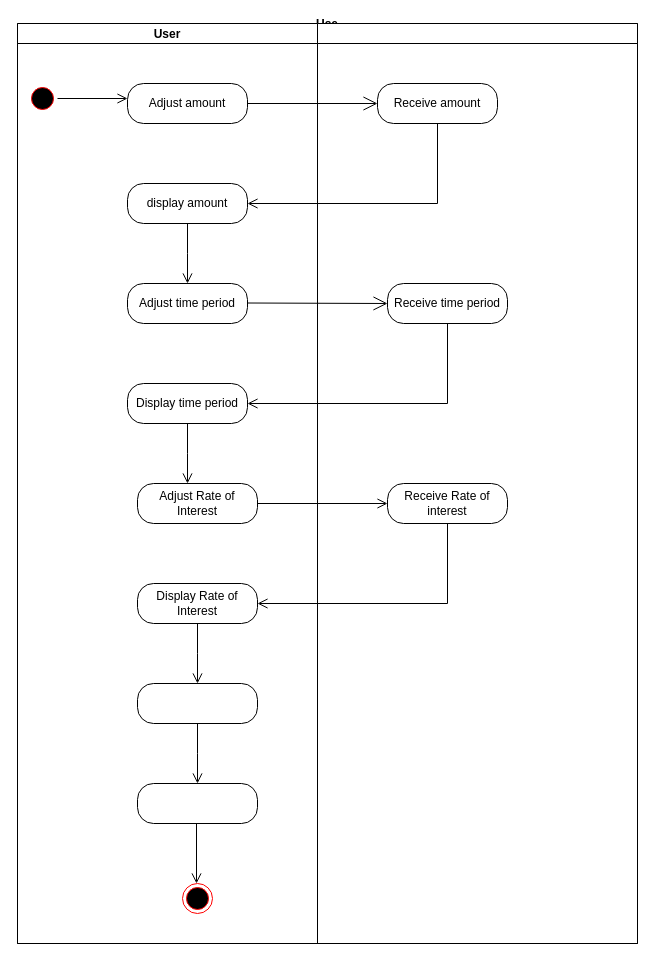
Some shapes in this 655 by 961 pixel diagram are drawn without their labels. Each missing label, with the centre of its shape:
Display graph: the point at 197,803
Display Total payable: the point at 197,703
Server: the point at 477,483
